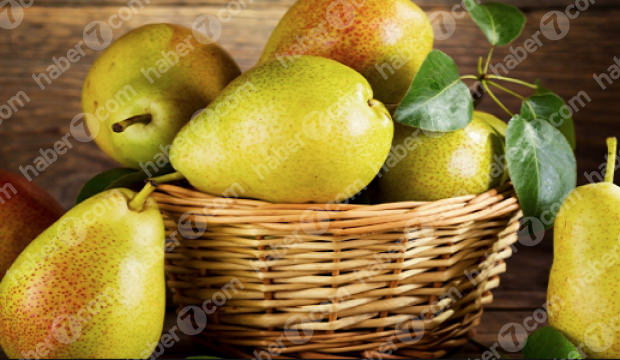pear: (158, 55, 408, 206), (1, 186, 168, 360)
